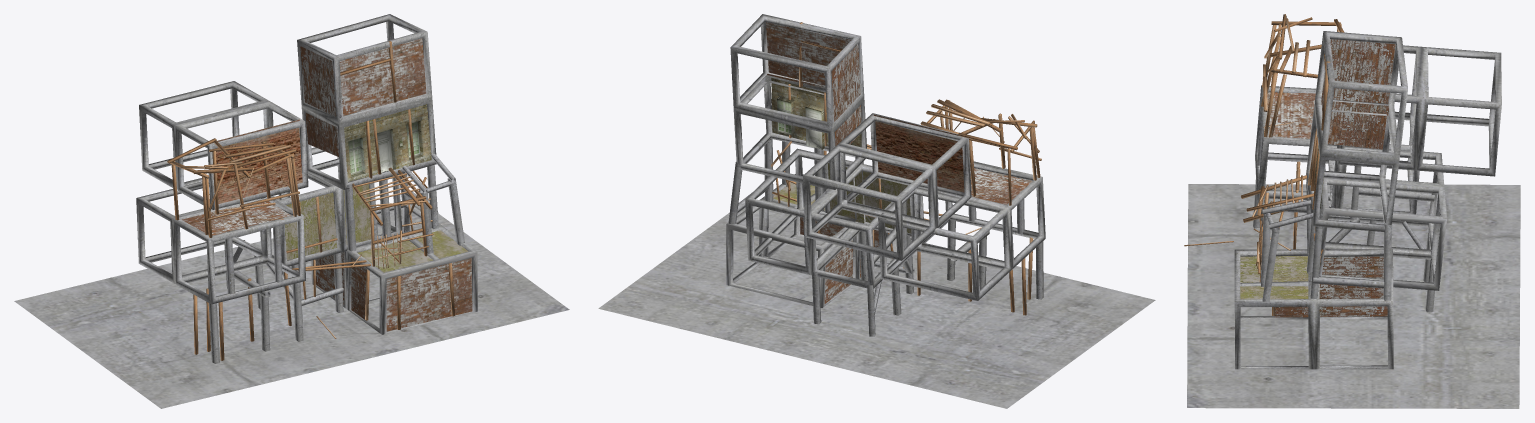
File: 1784832618829_no_idea_building.glb
3 renders of one model, left to right at view 1: azimuth 30°, elevation 25°; view 2: azimuth 150°, elevation 25°; view 3: azimuth 270°, elevation 25°, orthographic. The views are drawn at different scales.
Parts seen in each view (by area): view 1: Object_2; view 2: Object_2; view 3: Object_2.
Boxes of the visible parts, <box> form: Object_2: <box>14,14,569,408</box>; Object_2: <box>598,14,1155,408</box>; Object_2: <box>1184,14,1520,408</box>.
Size of the model in its own units: 909 by 552 by 576.
1 material, 1 textured.
